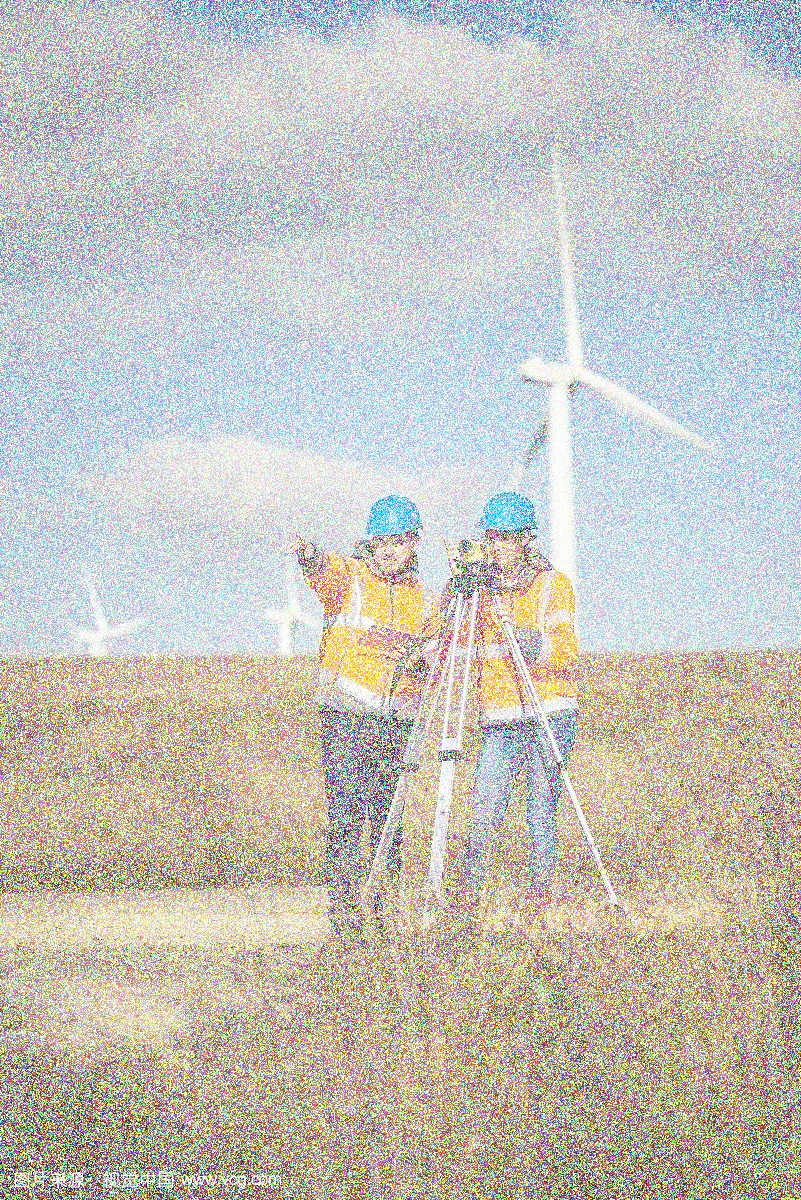helmet: (470, 488, 545, 568), (361, 490, 425, 583)
vest: (314, 560, 436, 718), (471, 569, 580, 720)
